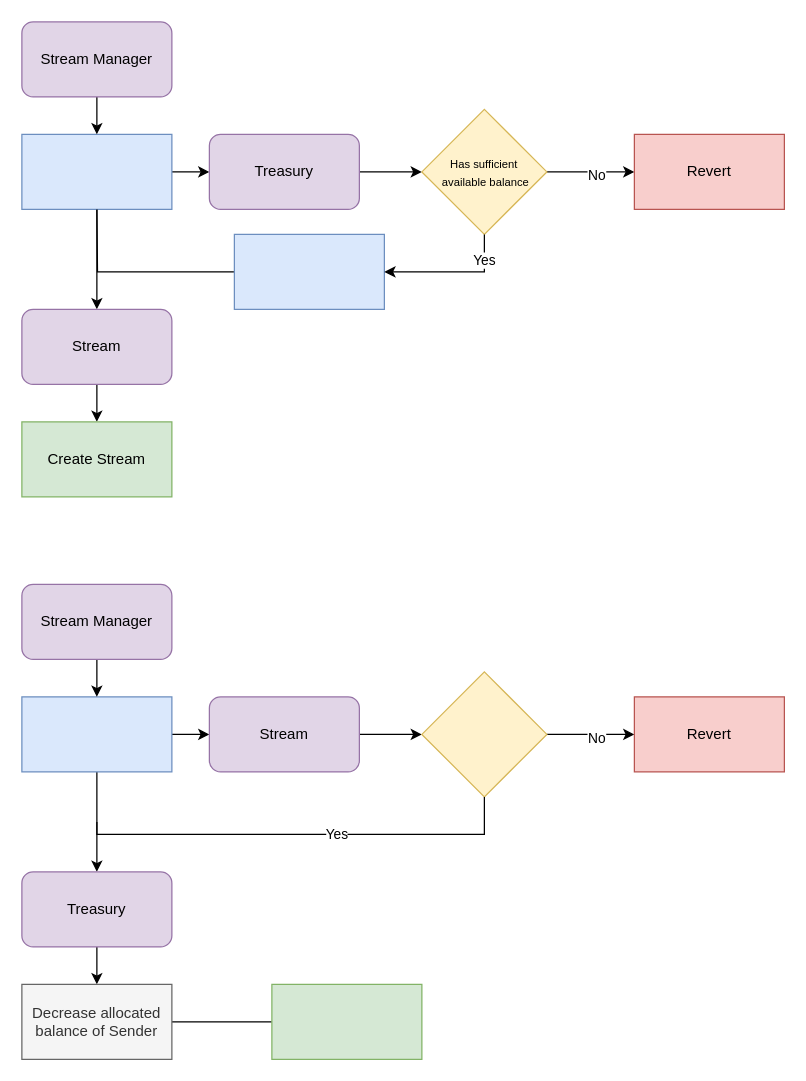
Image size: 806x1081. Some labels were removed from this diagram. The centre of each missing label's shape, as x and y in pixels:
"Allocate funds" goes at pixel 308 271.
"Claim from stream" goes at pixel 96 734.
"Has accrued balance" goes at pixel 484 734.
"Increase balance of recipient" goes at pixel 346 1021.
"Start Stream" goes at pixel 96 171.
